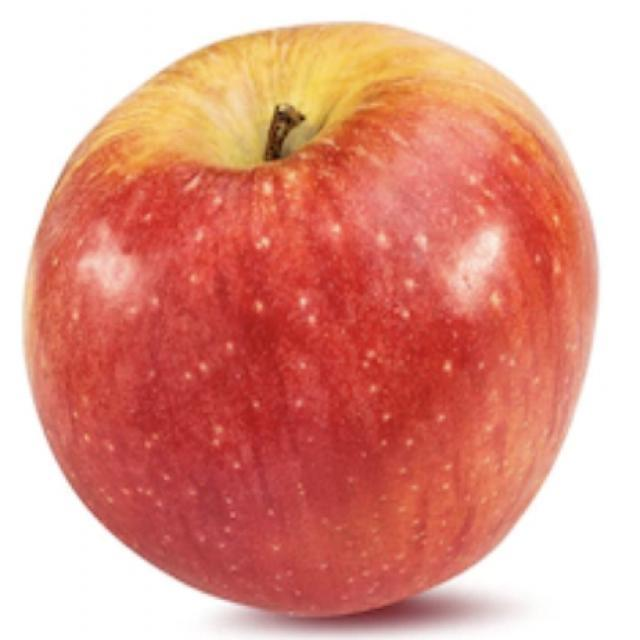Fresh Apple: (42, 15, 608, 640)
